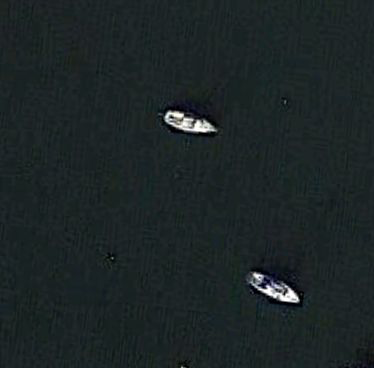boat: (244, 269, 301, 304), (161, 110, 220, 135)
